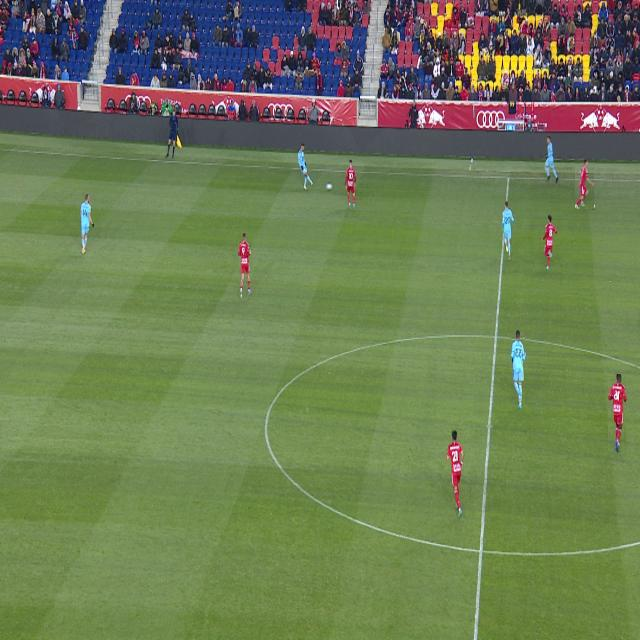football: (326, 183, 332, 190)
player: (447, 430, 464, 517), (609, 374, 626, 451), (512, 330, 525, 409), (576, 159, 594, 209), (238, 234, 252, 298), (542, 215, 557, 270), (81, 194, 94, 254), (502, 201, 514, 260), (298, 144, 313, 190), (545, 136, 558, 182), (345, 160, 356, 208)
